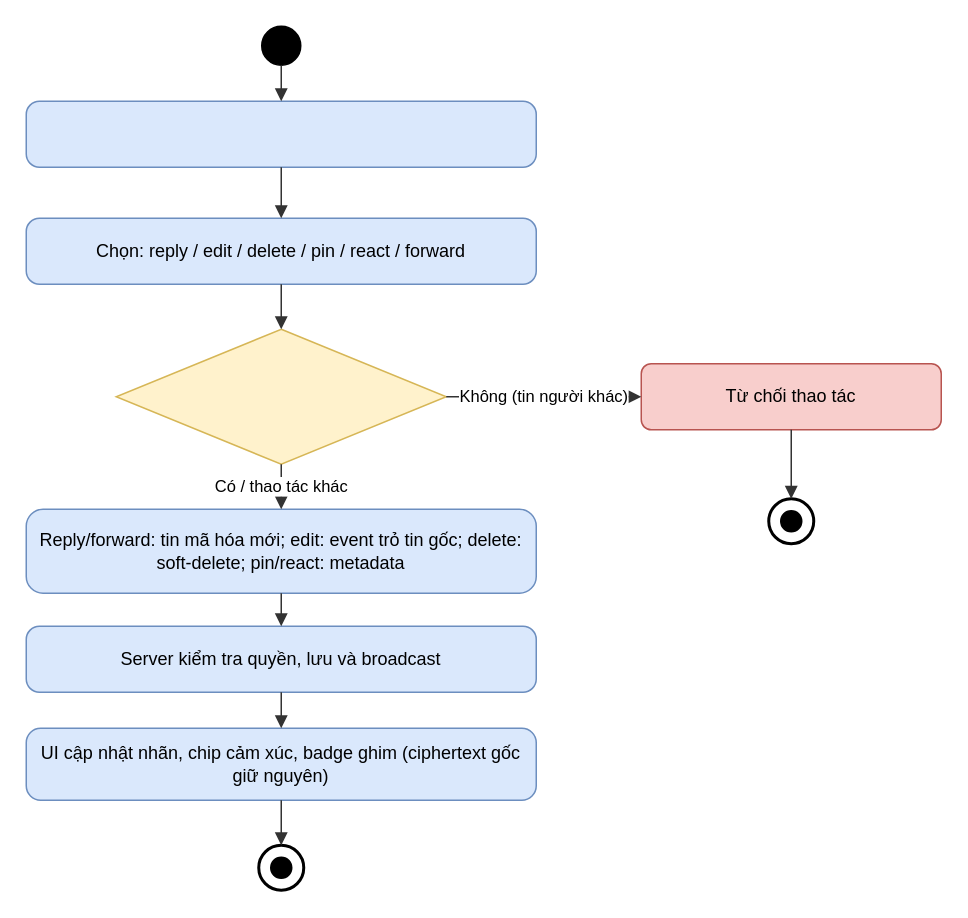
This 968x918 diagram has some shape labels left out. The shapes that lost their labels are listed below. From the top down, each one's centre as x and y in pixels, then its label:
At pixel 280 133: "Mở menu thao tác (ba chấm) trên một tin nhắn".
At pixel 280 396: "Edit/Delete trên tin của chính mình?".
